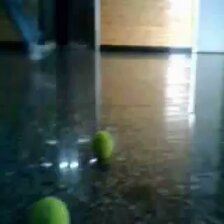tennis: (27, 198, 71, 224), (91, 132, 114, 163)
